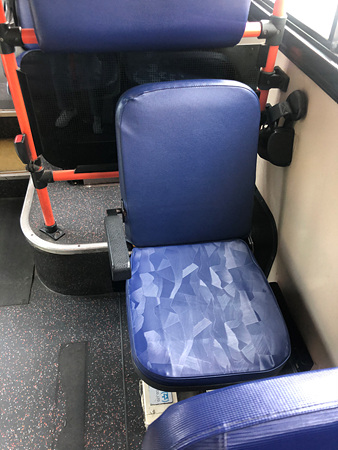seat: (114, 79, 287, 372)
